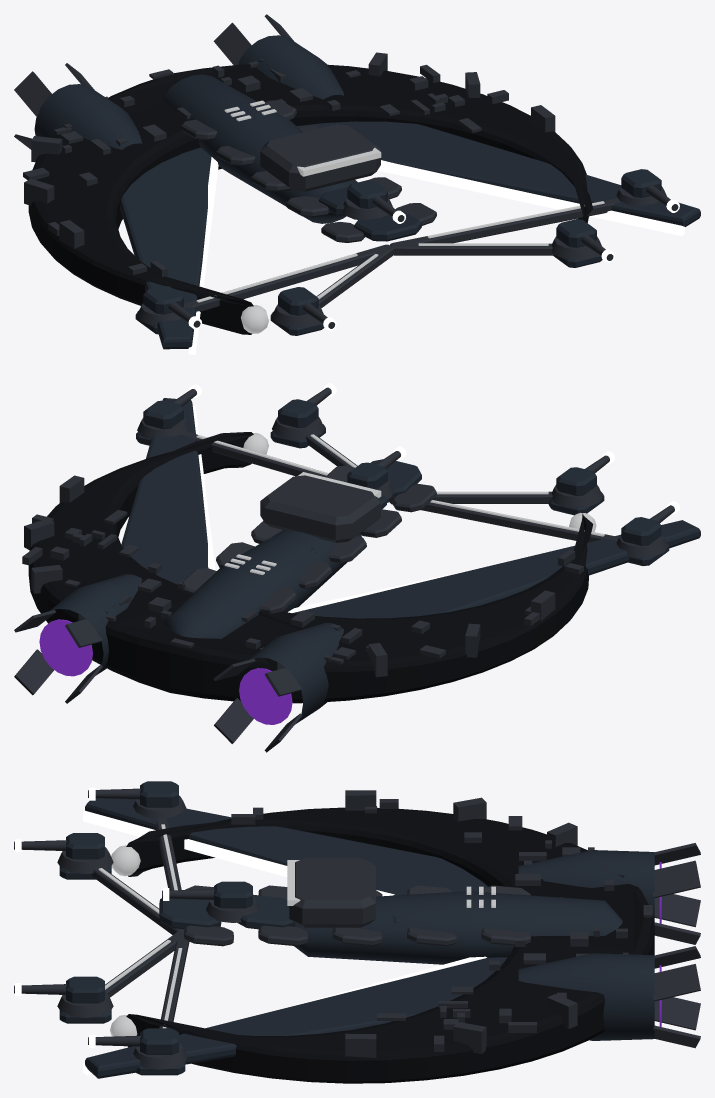
The model's file is ship_umbra.glb.
3 renders of one model, top to bottom at view 1: azimuth 30°, elevation 25°; view 2: azimuth 150°, elevation 25°; view 3: azimuth 270°, elevation 25°, orthographic. The views are drawn at different scales.
Visible parts, largest first — view 1: secondary, primary, trim, accent, glow; view 2: secondary, primary, trim, engine, glow, accent; view 3: secondary, primary, trim, accent, glow.
Boxes of the visible parts, bbox=[...] form: secondary: bbox=[34, 35, 700, 349]; primary: bbox=[28, 64, 593, 334]; trim: bbox=[14, 14, 678, 328]; accent: bbox=[188, 157, 684, 354]; glow: bbox=[196, 100, 604, 333]; secondary: bbox=[49, 398, 700, 724]; primary: bbox=[28, 432, 593, 703]; trim: bbox=[14, 387, 674, 752]; engine: bbox=[39, 619, 292, 724]; glow: bbox=[196, 433, 604, 574]; accent: bbox=[188, 383, 679, 612]; secondary: bbox=[59, 781, 654, 1078]; primary: bbox=[126, 807, 654, 1083]; trim: bbox=[14, 788, 700, 1069]; accent: bbox=[15, 787, 486, 1075]; glow: bbox=[98, 824, 495, 1036].
Size of the model in its own units: 3.83 by 0.6976 by 3.99.
